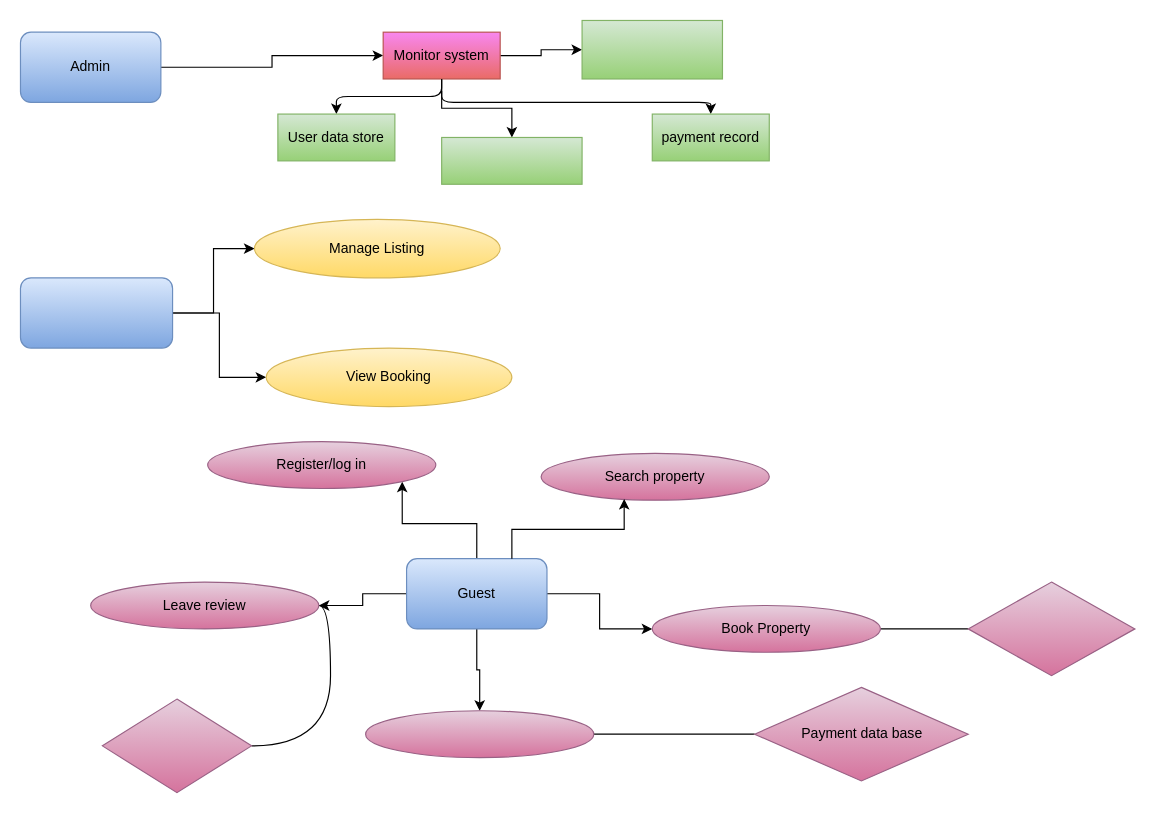
This 1156x813 diagram has some shape labels left out. Here are the shapes that lost their labels. From the top down, the centre of each, then its label:
the point at 651,49: Autentication
the point at 511,160: Property Listing
the point at 96,312: Host
the point at 1051,628: Booking data base
the point at 176,745: Review data base
the point at 479,734: payment
